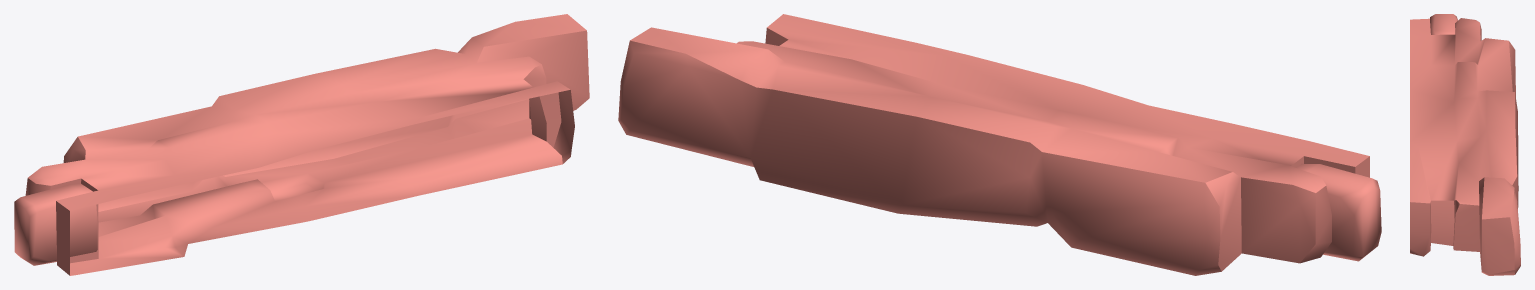
Rendered from Stone_Wall_001_k.FBX.
3 renders of one model, left to right at view 1: azimuth 30°, elevation 25°; view 2: azimuth 150°, elevation 25°; view 3: azimuth 270°, elevation 25°, orthographic. The views are drawn at different scales.
Visible parts, largest first — view 1: Stone_Wall_001_k_LOD0; view 2: Stone_Wall_001_k_LOD0; view 3: Stone_Wall_001_k_LOD0.
Part boxes in pixels (x1,y1,x2,y2): Stone_Wall_001_k_LOD0: (14,14,589,275); Stone_Wall_001_k_LOD0: (618,14,1381,275); Stone_Wall_001_k_LOD0: (1410,14,1520,275).
Bounding box in the file's own units: 395 × 85.42 × 59.64.
